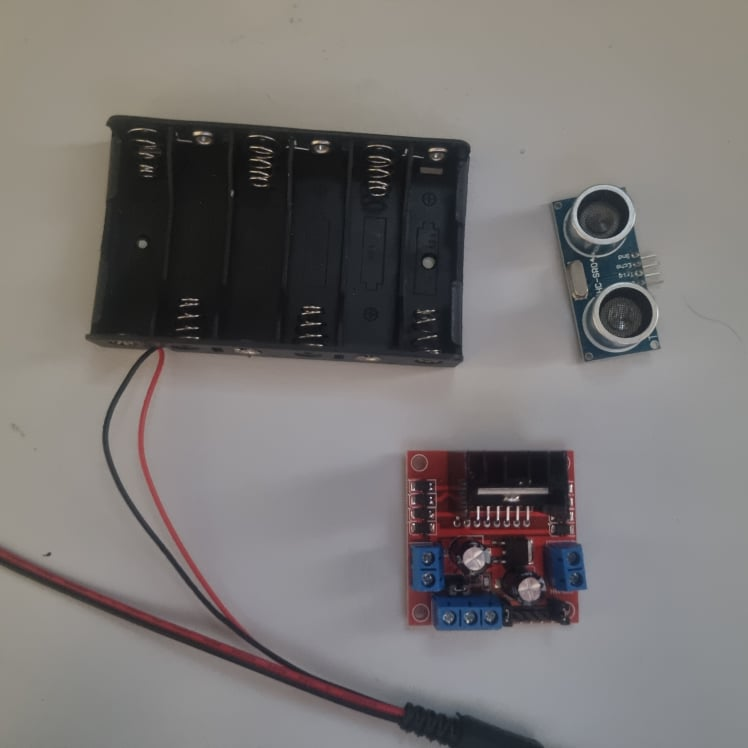BATTERY BOX: (83, 111, 473, 366)
MOTOR: (404, 449, 587, 630)
SENSOR: (550, 179, 666, 364)
